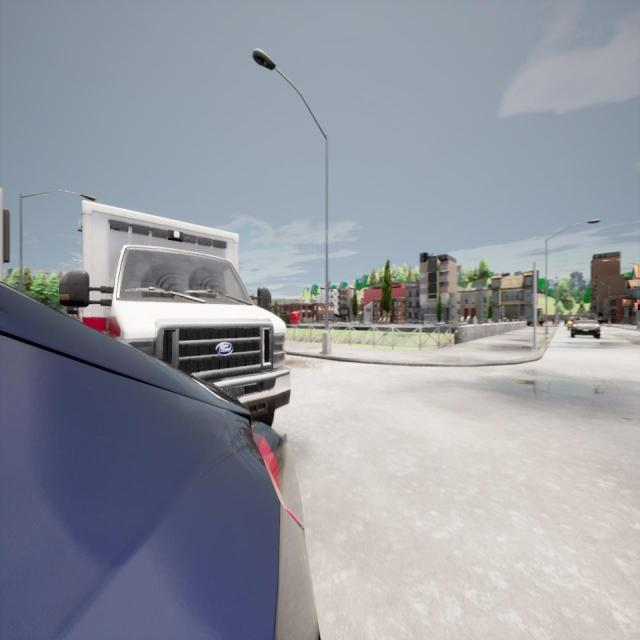Vehicle: (0, 282, 314, 640), (60, 201, 291, 425), (571, 312, 602, 340), (567, 317, 572, 330)
traffic_light: (1, 208, 11, 263), (532, 271, 539, 292), (637, 300, 640, 311)
